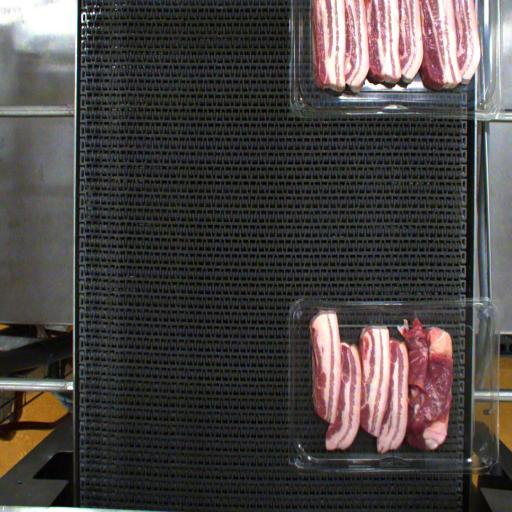twisted-meat: (410, 316, 448, 452)
unsealed: (315, 300, 340, 328)
